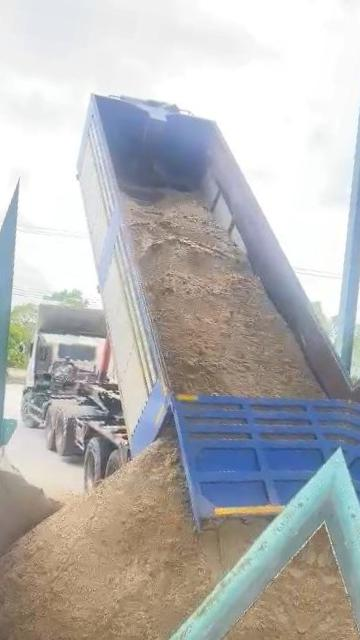sand: (0, 440, 266, 640), (128, 193, 324, 398), (170, 527, 324, 640), (0, 459, 62, 561)
